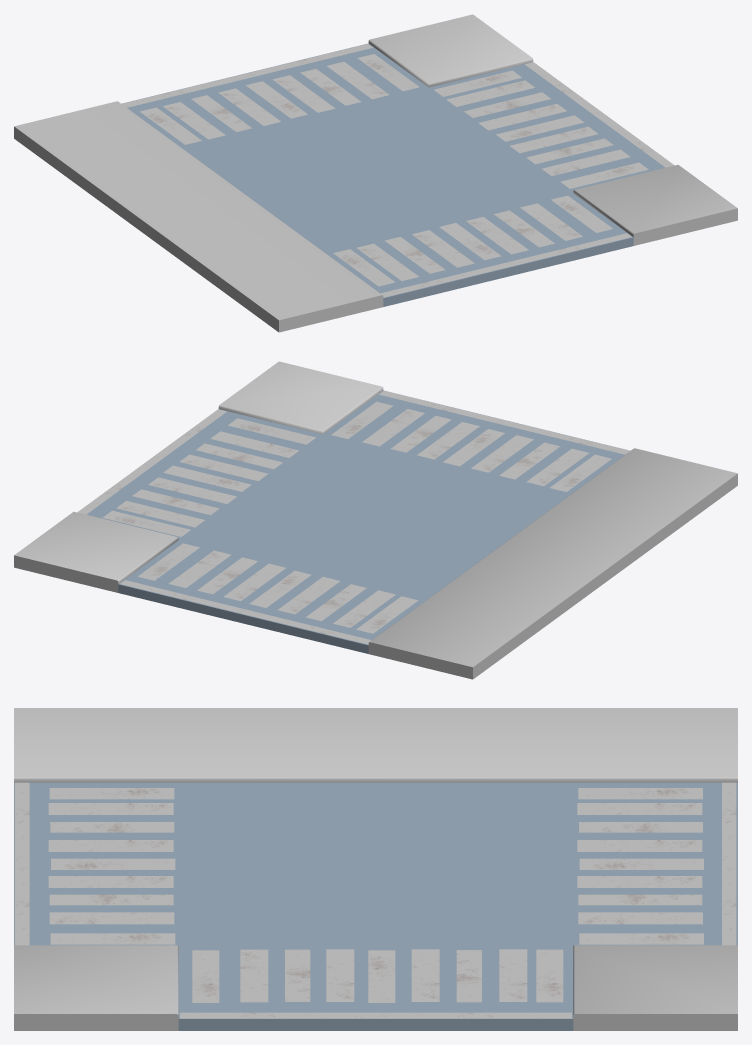
The model's file is Road_007.fbx.
3 renders of one model, top to bottom at view 1: azimuth 30°, elevation 25°; view 2: azimuth 150°, elevation 25°; view 3: azimuth 270°, elevation 25°, orthographic. The views are drawn at different scales.
Visible parts, largest first — view 1: Road_007; view 2: Road_007; view 3: Road_007.
Boxes of the visible parts, x1,y1,x2,y2 form: Road_007: [14, 14, 737, 332]; Road_007: [14, 361, 737, 679]; Road_007: [14, 708, 737, 1030].
Size of the model in its own units: 2202 by 56.17 by 2202.
